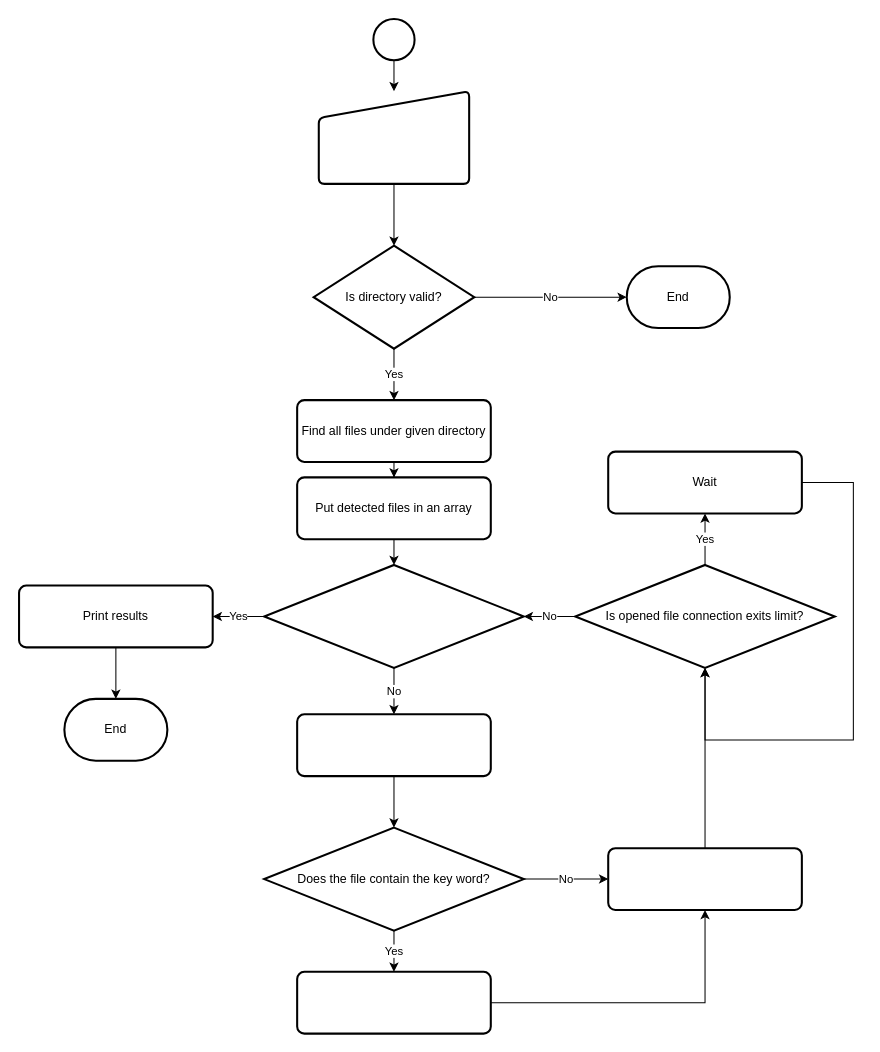
The diagram is 880 pixels wide and 1052 high, and some of its shapes have lost their labels. Each missing label, with the box of its shape:
Close the read stream: (607, 847, 802, 911)
Is file array empty?: (263, 563, 524, 668)
Pop a file and create a read stream: (296, 713, 491, 777)
Put the file path to Result list: (296, 970, 491, 1034)
Read Params (directory, keyword): (317, 90, 470, 184)
